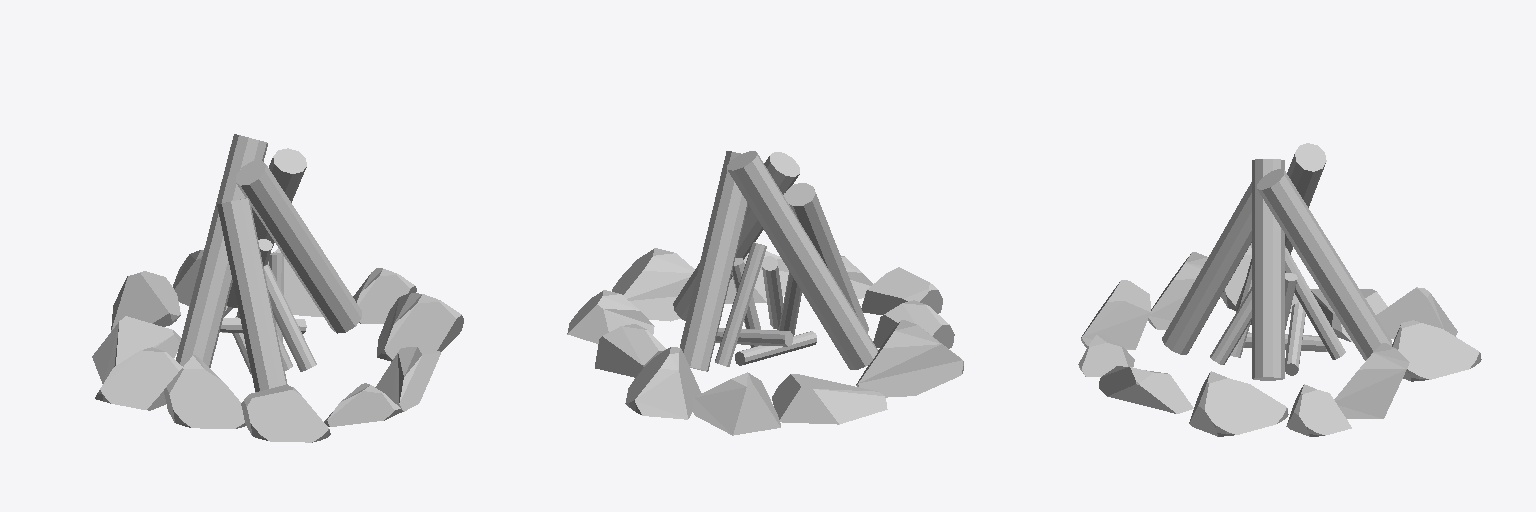
Rendered from campfire.obj.
3 views of the same model, side by side, from view 1: azimuth 30°, elevation 25°; view 2: azimuth 150°, elevation 25°; view 3: azimuth 270°, elevation 25° (orthographic).
Parts seen in each view (by area): view 1: Cylinder, Cylinder.003, Cylinder.001, Sphere.005_Sphere.006, Sphere_Sphere.001, Sphere.008_Sphere.009, Sphere.001_Sphere.002, Sphere.011_Sphere.012, Sphere.003_Sphere.004, Sphere.006_Sphere.007, Sphere.009_Sphere.010, Sphere.002_Sphere.003 (+4 smaller); view 2: Cylinder.001, Cylinder.002, Sphere.001_Sphere.002, Sphere.003_Sphere.004, Sphere.010_Sphere.011, Sphere.011_Sphere.012, Sphere_Sphere.001, Cylinder.003, Sphere.004_Sphere.005, Sphere.009_Sphere.010, Sphere.008_Sphere.009, Cylinder (+9 smaller); view 3: Cylinder.002, Cylinder, Cylinder.003, Sphere_Sphere.001, Sphere.010_Sphere.011, Sphere.004_Sphere.005, Sphere.008_Sphere.009, Sphere.006_Sphere.007, Sphere.009_Sphere.010, Sphere.011_Sphere.012, Sphere.005_Sphere.006, Cylinder.001 (+6 smaller).
Boxes of the visible parts, box(x1,y1,x2,y2) form: Cylinder: box(236, 160, 361, 333); Cylinder.003: box(217, 198, 287, 391); Cylinder.001: box(176, 134, 267, 367); Sphere.005_Sphere.006: box(164, 355, 245, 428); Sphere_Sphere.001: box(377, 293, 463, 361); Sphere.008_Sphere.009: box(241, 385, 330, 442); Sphere.001_Sphere.002: box(95, 347, 182, 410); Sphere.011_Sphere.012: box(111, 271, 180, 330); Sphere.003_Sphere.004: box(92, 316, 180, 383); Sphere.006_Sphere.007: box(375, 347, 440, 411); Sphere.009_Sphere.010: box(353, 268, 416, 323); Sphere.002_Sphere.003: box(324, 383, 402, 426); Cylinder.001: box(727, 151, 877, 369); Cylinder.002: box(680, 151, 747, 371); Sphere.001_Sphere.002: box(856, 320, 963, 397); Sphere.003_Sphere.004: box(772, 374, 887, 424); Sphere.010_Sphere.011: box(625, 347, 701, 419); Sphere.011_Sphere.012: box(693, 372, 780, 435); Sphere_Sphere.001: box(612, 248, 694, 321); Cylinder.003: box(783, 183, 868, 332); Sphere.004_Sphere.005: box(595, 324, 665, 377); Sphere.009_Sphere.010: box(567, 290, 654, 343); Sphere.008_Sphere.009: box(861, 267, 942, 314); Cylinder: box(673, 152, 799, 320); Cylinder.002: box(1257, 169, 1391, 360); Cylinder: box(1252, 159, 1284, 380); Cylinder.003: box(1162, 182, 1251, 354); Sphere_Sphere.001: box(1189, 371, 1288, 436); Sphere.010_Sphere.011: box(1392, 320, 1481, 381); Sphere.004_Sphere.005: box(1334, 343, 1409, 418); Sphere.008_Sphere.009: box(1081, 280, 1150, 349); Sphere.006_Sphere.007: box(1099, 366, 1193, 413); Sphere.009_Sphere.010: box(1286, 384, 1351, 436); Sphere.011_Sphere.012: box(1376, 287, 1457, 338); Sphere.005_Sphere.006: box(1148, 252, 1207, 329); Cylinder.001: box(1235, 143, 1326, 324).
Bounding box in the file's own units: 3.32 × 1.99 × 3.26.